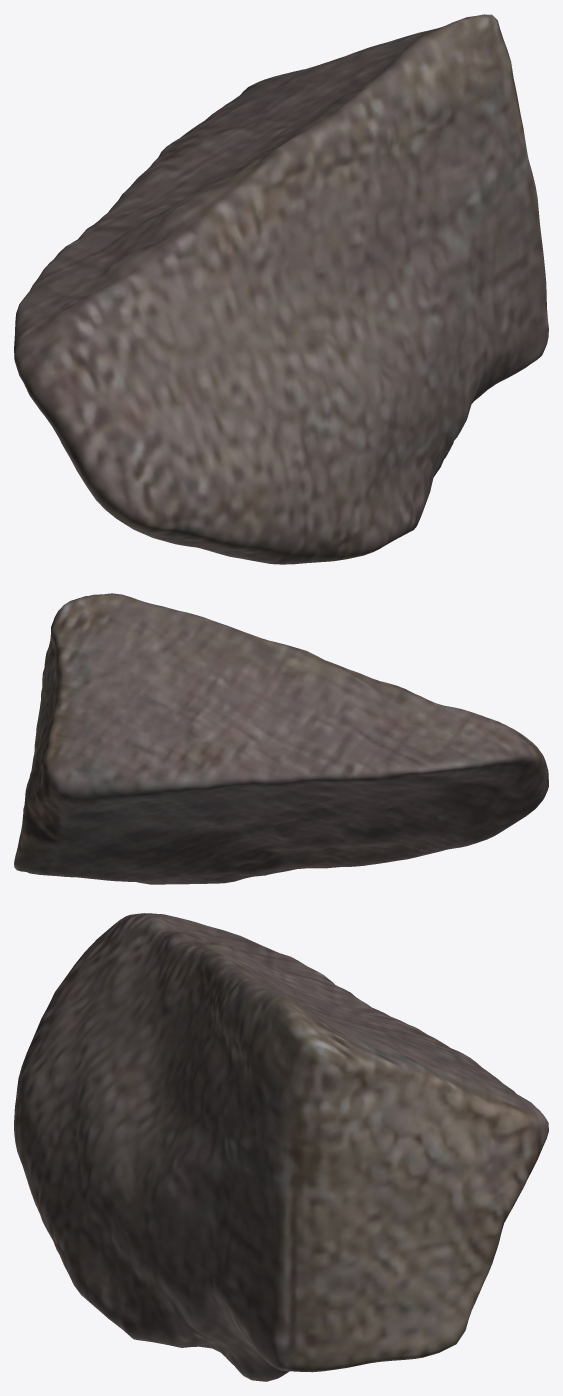
File: 9c688c7bb09c_Thin_jagged_small_r.fbx
3 views of the same model, one above another, from view 1: azimuth 30°, elevation 25°; view 2: azimuth 150°, elevation 25°; view 3: azimuth 270°, elevation 25° (orthographic). The views are drawn at different scales.
Visible parts, largest first — view 1: mesh; view 2: mesh; view 3: mesh.
Part boxes in pixels (bbox=[...]): mesh: bbox=[14, 14, 548, 564]; mesh: bbox=[14, 593, 548, 884]; mesh: bbox=[14, 913, 548, 1381].
Bounding box in the file's own units: 99.86 × 65.6 × 81.19.
